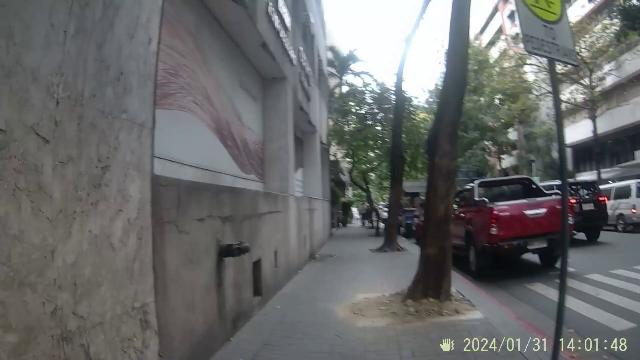tree: (414, 56, 468, 302), (383, 45, 407, 253)
